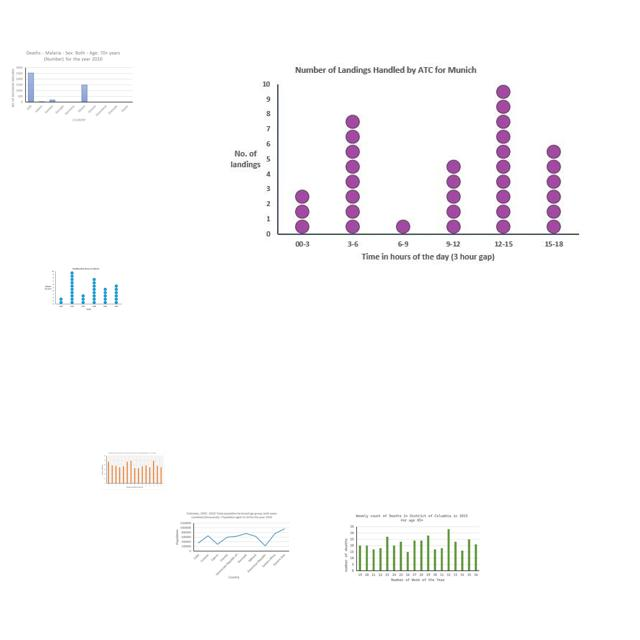Graph: (218, 57, 587, 271), (342, 512, 481, 584), (7, 49, 136, 125), (172, 510, 291, 581), (42, 265, 124, 313), (100, 451, 165, 490)
